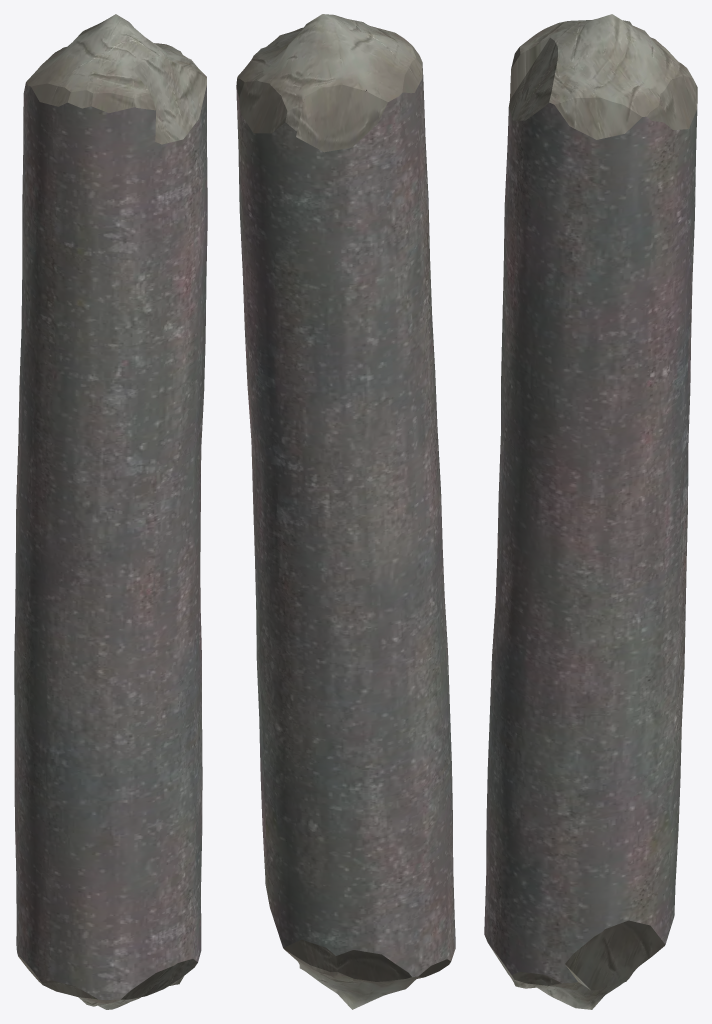
3 renders of one model, left to right at view 1: azimuth 30°, elevation 25°; view 2: azimuth 150°, elevation 25°; view 3: azimuth 270°, elevation 25°, orthographic. The views are drawn at different scales.
Parts seen in each view (by area): view 1: SM_GF_Ash_Tree_02_quarter_02_LOD0; view 2: SM_GF_Ash_Tree_02_quarter_02_LOD0; view 3: SM_GF_Ash_Tree_02_quarter_02_LOD0.
Part boxes in pixels (x1=…): SM_GF_Ash_Tree_02_quarter_02_LOD0: x1=14, y1=14, x2=207, y2=1009; SM_GF_Ash_Tree_02_quarter_02_LOD0: x1=236, y1=14, x2=455, y2=1009; SM_GF_Ash_Tree_02_quarter_02_LOD0: x1=484, y1=14, x2=697, y2=1009.
Bounding box in the file's own units: 0.432 × 2.27 × 0.4364.
1 material, 1 textured.
